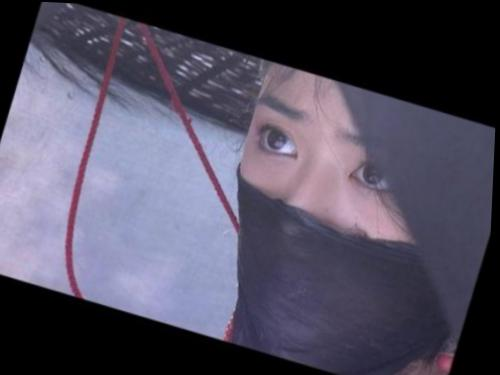WRONG: (193, 61, 466, 375)
